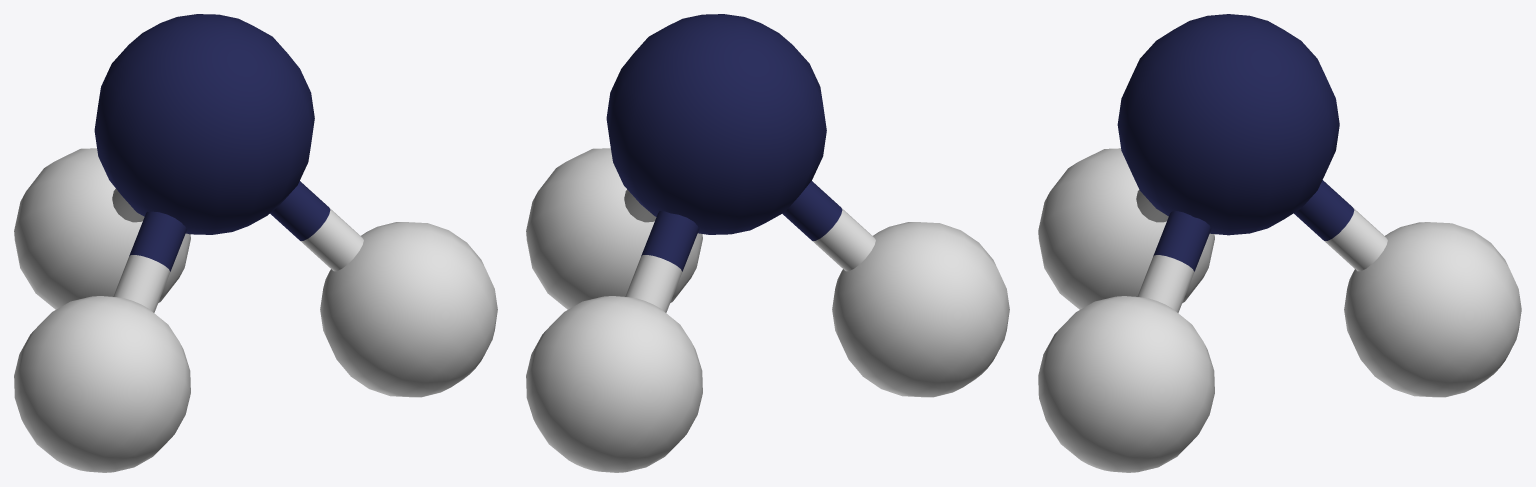
The model's file is 01_Amoniaco.fbx.
The picture shows the model from 3 angles, left to right: view 1: azimuth 30°, elevation 25°; view 2: azimuth 150°, elevation 25°; view 3: azimuth 270°, elevation 25°; orthographic projection.
Parts seen in each view (by area): view 1: m_amoniaco; view 2: m_amoniaco; view 3: m_amoniaco.
Boxes of the visible parts, x1=… form: m_amoniaco: x1=14, y1=14, x2=497, y2=472; m_amoniaco: x1=526, y1=14, x2=1009, y2=472; m_amoniaco: x1=1038, y1=14, x2=1521, y2=472.
Bounding box in the file's own units: 435 × 364 × 477.
